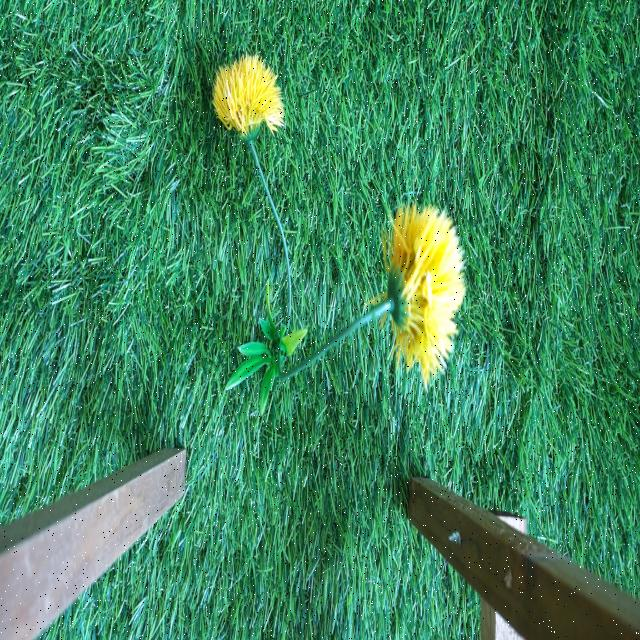base: (232, 280, 304, 410)
flower: (387, 205, 461, 373), (215, 58, 285, 136)
